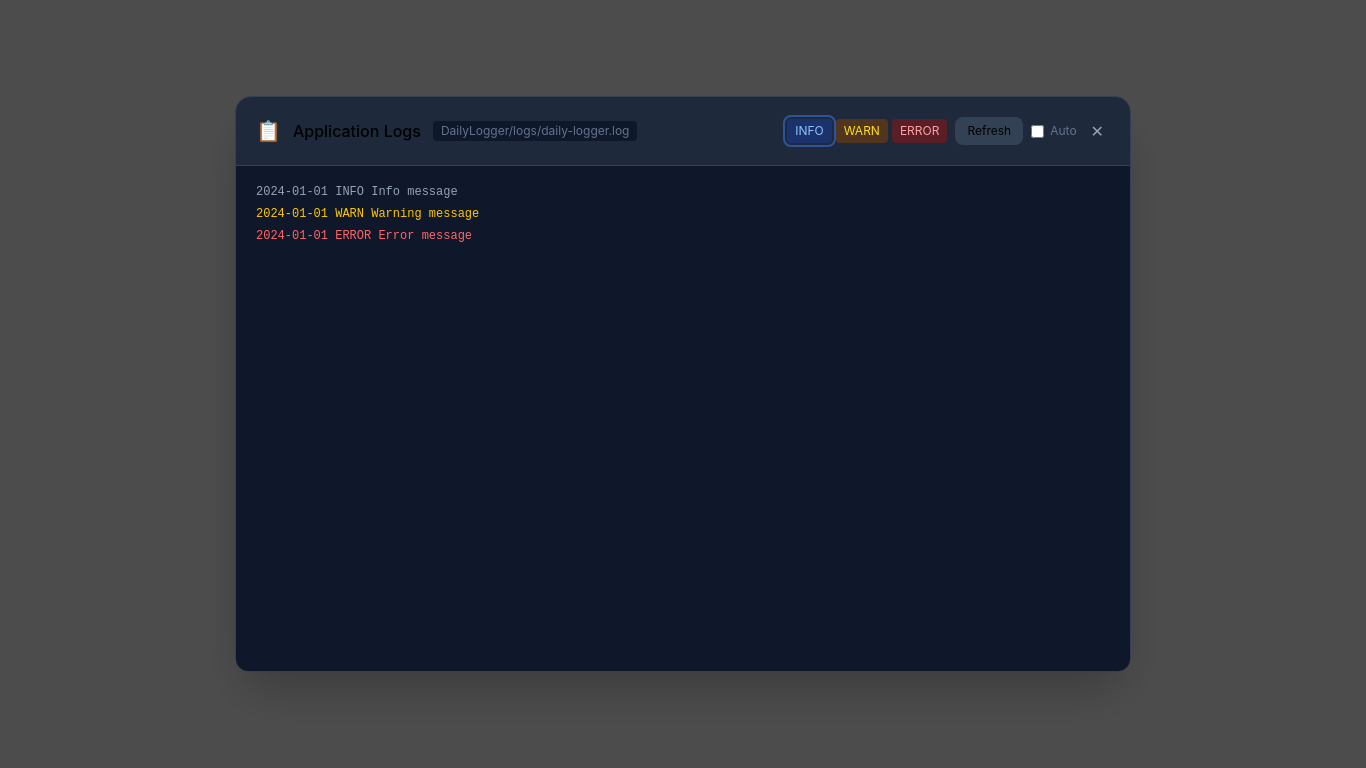
Test: LogViewer › level filtering › filters log lines based on active levels
The width and height of the screenshot is (1366, 768).
// Deactivate INFO
Click the button "INFO": (809, 131) [787, 119, 832, 143]
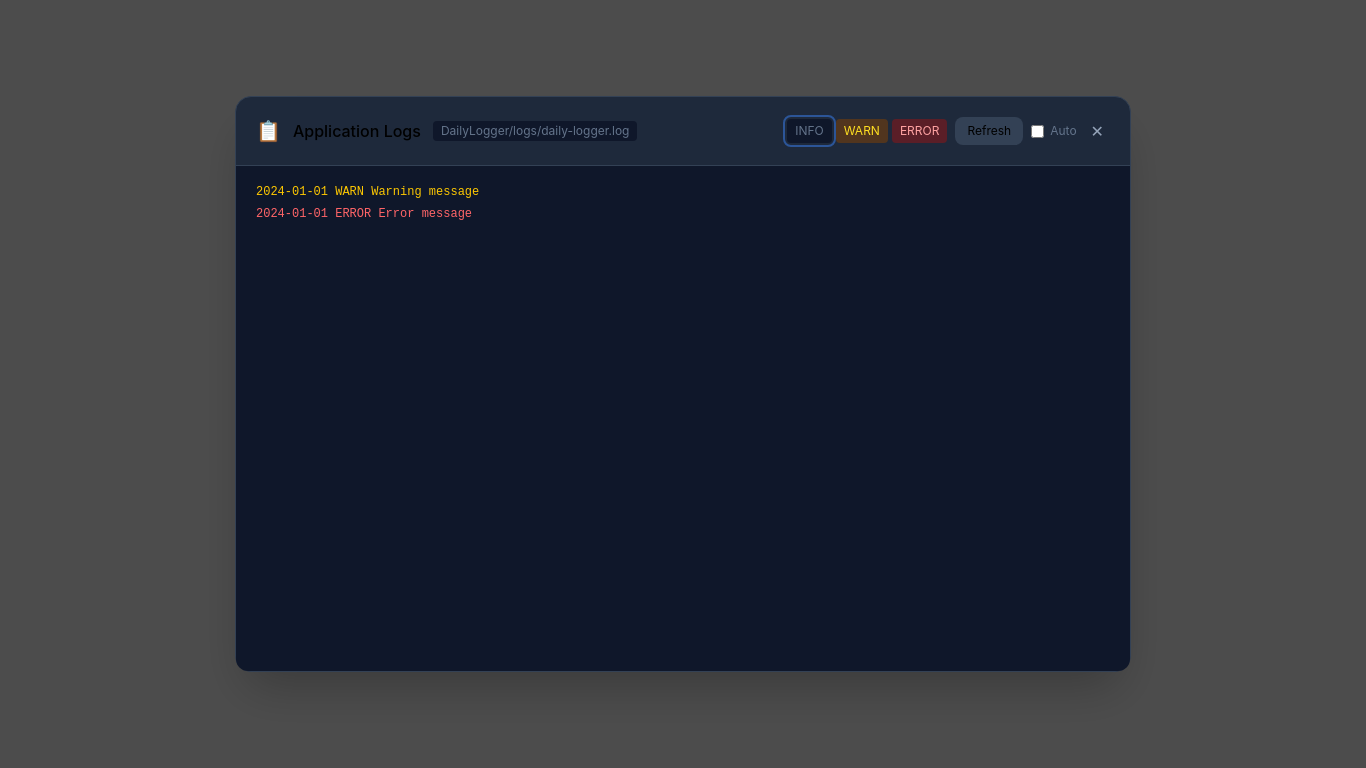
Check: the text "Warning message" is shown, box [256, 185, 479, 199]
Check: the text "Info message" is gone
